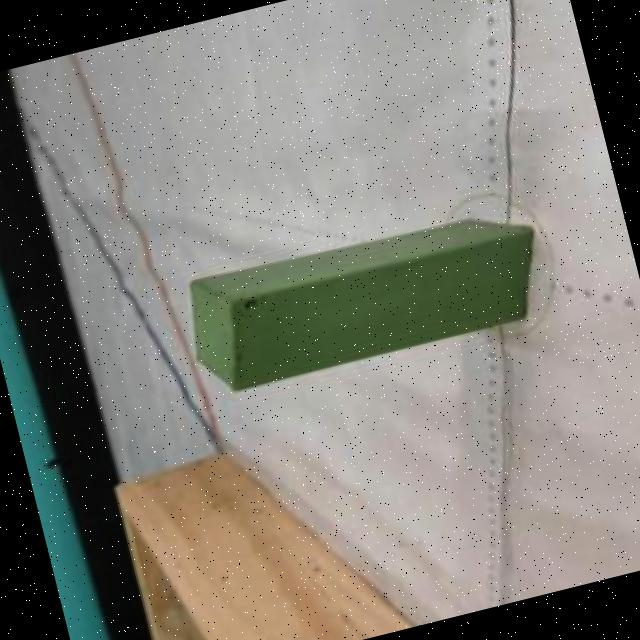greenbox: (173, 194, 552, 400)
